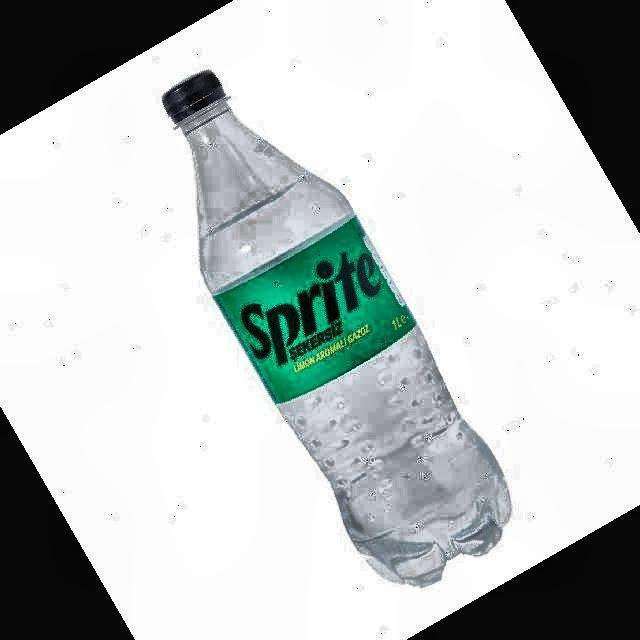plastic: (164, 72, 511, 586)
